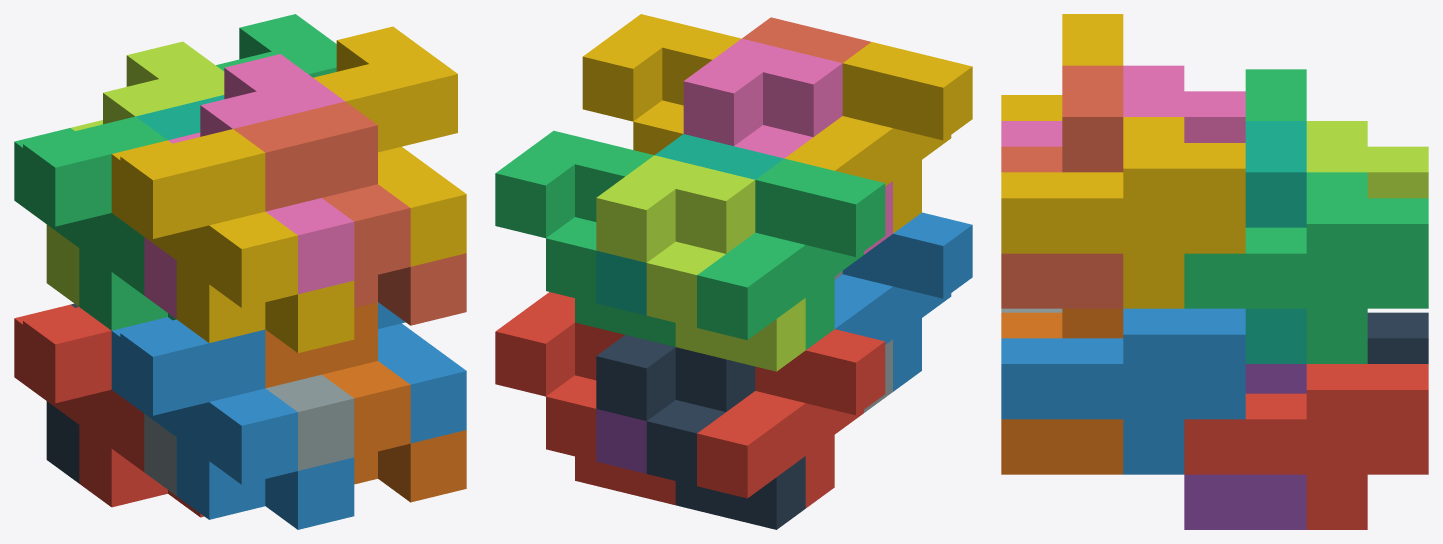
Rendered from tiling.obj.
The picture shows the model from 3 angles, left to right: view 1: azimuth 30°, elevation 25°; view 2: azimuth 150°, elevation 25°; view 3: azimuth 270°, elevation 25°; orthographic projection. The views are drawn at different scales.
Parts seen in each view (by area): view 1: copy_1_domain_4, copy_1_domain_2, copy_1_domain_8, copy_2_domain_8, copy_1_domain_3, copy_1_domain_1, copy_1_domain_6, copy_2_domain_4, copy_2_domain_3, copy_2_domain_2, copy_2_domain_6, copy_2_domain_7 (+2 smaller); view 2: copy_1_domain_3, copy_2_domain_3, copy_1_domain_1, copy_2_domain_1, copy_1_domain_4, copy_2_domain_7, copy_2_domain_4, copy_2_domain_5, copy_1_domain_2, copy_2_domain_8, copy_1_domain_7, copy_1_domain_8 (+2 smaller); view 3: copy_2_domain_8, copy_2_domain_6, copy_2_domain_7, copy_2_domain_5, copy_1_domain_8, copy_1_domain_6, copy_1_domain_7, copy_1_domain_5, copy_2_domain_4, copy_2_domain_3, copy_1_domain_4, copy_1_domain_3 (+1 smaller).
Boxes of the visible parts, <box> form: copy_1_domain_4: <box>111,129,354,352</box>; copy_1_domain_2: <box>111,317,354,529</box>; copy_1_domain_8: <box>233,101,466,325</box>; copy_2_domain_8: <box>313,26,466,266</box>; copy_1_domain_3: <box>14,116,176,330</box>; copy_1_domain_1: <box>14,304,203,517</box>; copy_1_domain_6: <box>265,302,466,502</box>; copy_2_domain_4: <box>144,54,354,318</box>; copy_2_domain_3: <box>46,41,224,306</box>; copy_2_domain_2: <box>144,374,354,495</box>; copy_2_domain_6: <box>378,302,466,443</box>; copy_2_domain_7: <box>216,14,336,77</box>; copy_1_domain_3: <box>697,158,885,349</box>; copy_2_domain_3: <box>596,155,805,371</box>; copy_1_domain_1: <box>697,329,885,508</box>; copy_2_domain_1: <box>596,335,805,529</box>; copy_1_domain_4: <box>784,42,972,233</box>; copy_2_domain_7: <box>495,130,675,346</box>; copy_2_domain_4: <box>683,38,892,254</box>; copy_2_domain_5: <box>495,292,675,505</box>; copy_1_domain_2: <box>834,212,972,391</box>; copy_2_domain_8: <box>582,14,741,155</box>; copy_1_domain_7: <box>596,134,783,315</box>; copy_1_domain_8: <box>742,17,870,62</box>; copy_2_domain_8: <box>1001,117,1245,308</box>; copy_2_domain_6: <box>1001,308,1245,474</box>; copy_2_domain_7: <box>1184,172,1428,363</box>; copy_2_domain_5: <box>1184,364,1428,529</box>; copy_1_domain_8: <box>1001,65,1123,308</box>; copy_1_domain_6: <box>1001,308,1123,474</box>; copy_1_domain_7: <box>1245,121,1306,363</box>; copy_1_domain_5: <box>1184,364,1306,529</box>; copy_2_domain_4: <box>1001,65,1245,146</box>; copy_2_domain_3: <box>1306,121,1428,198</box>; copy_1_domain_4: <box>1001,14,1123,120</box>; copy_1_domain_3: <box>1245,69,1306,120</box>.
Bounding box in the file's own units: 6 × 7 × 7.
